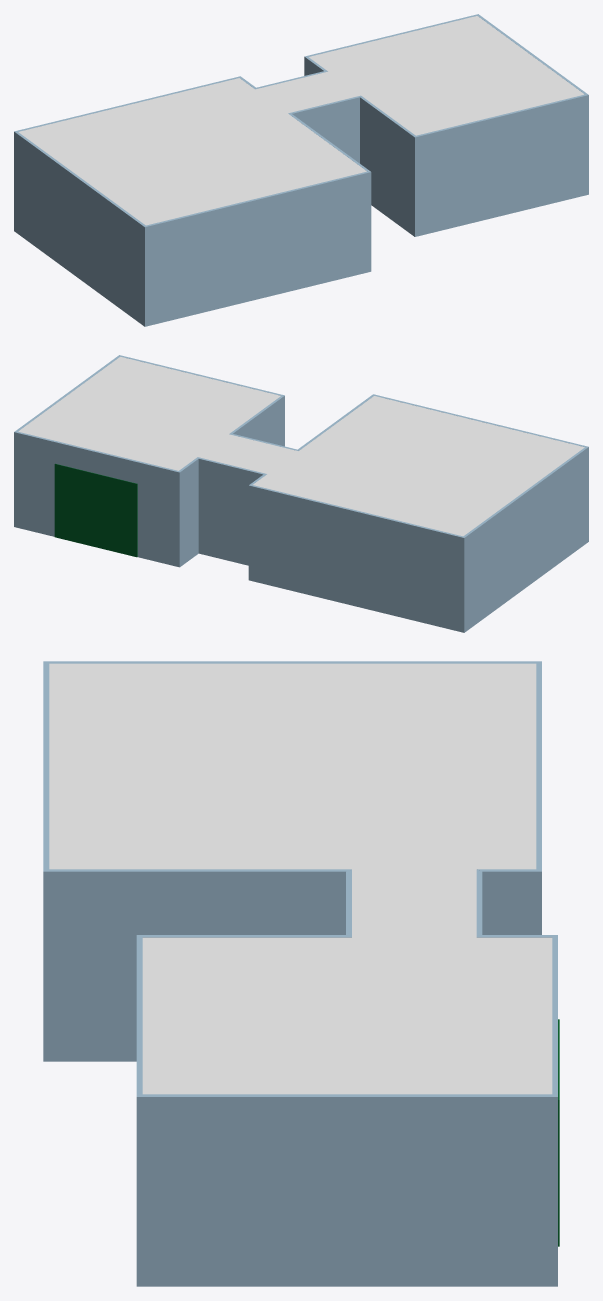
Rendered from Ambiente.FBX.
3 views of the same model, one above another, from view 1: azimuth 30°, elevation 25°; view 2: azimuth 150°, elevation 25°; view 3: azimuth 270°, elevation 25° (orthographic). The views are drawn at different scales.
Parts seen in each view (by area): view 1: Parede, Teto; view 2: Parede, Teto, Box001; view 3: Teto, Parede.
Part boxes in pixels (x1,y1,x2,y2): Parede: [14, 14, 588, 326]; Teto: [18, 16, 584, 225]; Parede: [14, 355, 588, 632]; Teto: [18, 356, 584, 536]; Box001: [54, 463, 137, 557]; Teto: [49, 663, 552, 1094]; Parede: [43, 661, 557, 1286].
Bounding box in the file's own units: 1066 × 217 × 534.
